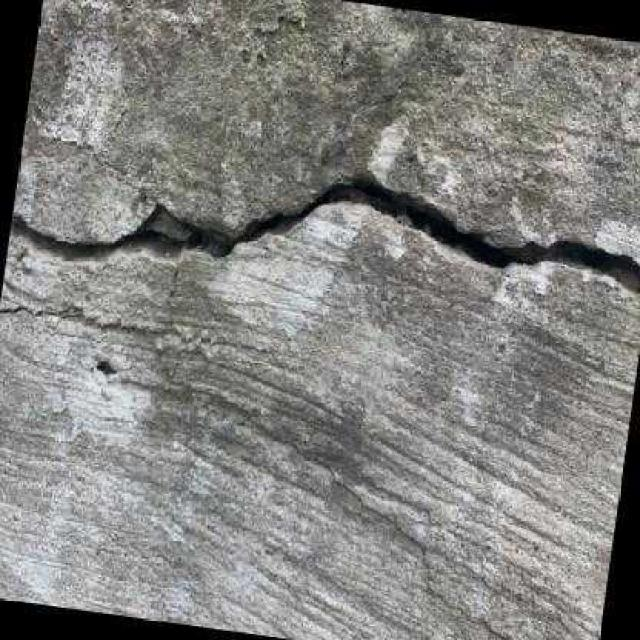D00: (8, 167, 640, 294)
